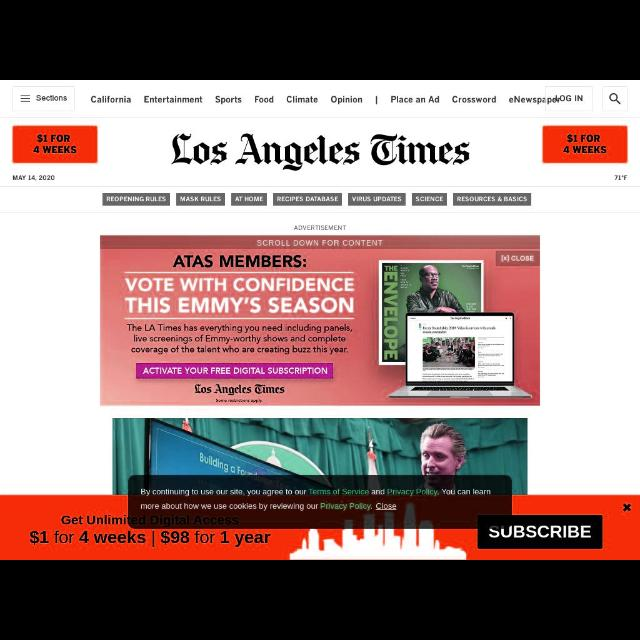backgroundimage: (100, 237, 540, 406), (1, 495, 639, 559)
button: (602, 86, 628, 112)
icon: (608, 92, 622, 106), (19, 93, 31, 103), (623, 504, 631, 512)
image: (112, 419, 528, 495), (378, 260, 534, 398)
multitab: (12, 86, 628, 112), (102, 193, 532, 207)
text: (170, 132, 470, 172), (125, 278, 355, 314), (141, 488, 491, 510), (126, 324, 354, 354), (28, 530, 272, 548), (60, 514, 240, 528), (173, 255, 307, 269), (143, 367, 329, 375), (488, 525, 592, 539), (256, 238, 382, 248), (564, 133, 606, 155), (193, 384, 284, 394), (33, 134, 77, 154), (509, 95, 561, 105), (143, 96, 204, 104), (106, 195, 166, 202), (457, 196, 527, 202), (390, 95, 440, 103), (352, 195, 402, 203), (452, 95, 496, 104), (277, 196, 339, 202), (90, 96, 132, 104), (293, 225, 347, 231), (179, 195, 221, 202), (215, 398, 262, 404), (286, 96, 318, 104), (330, 96, 362, 104), (502, 254, 534, 262), (12, 175, 54, 181), (554, 94, 584, 102), (36, 95, 68, 102), (214, 96, 242, 104), (416, 195, 444, 202), (236, 196, 264, 202), (255, 96, 275, 102), (614, 174, 628, 180)
textbutton: (478, 514, 602, 550), (12, 125, 98, 163), (542, 126, 628, 164), (136, 363, 334, 379), (13, 86, 75, 112), (544, 89, 594, 111), (452, 194, 532, 206), (102, 193, 170, 205), (274, 193, 342, 205), (348, 192, 406, 205), (496, 251, 540, 267), (177, 192, 226, 204), (232, 193, 266, 207), (412, 193, 448, 205)
